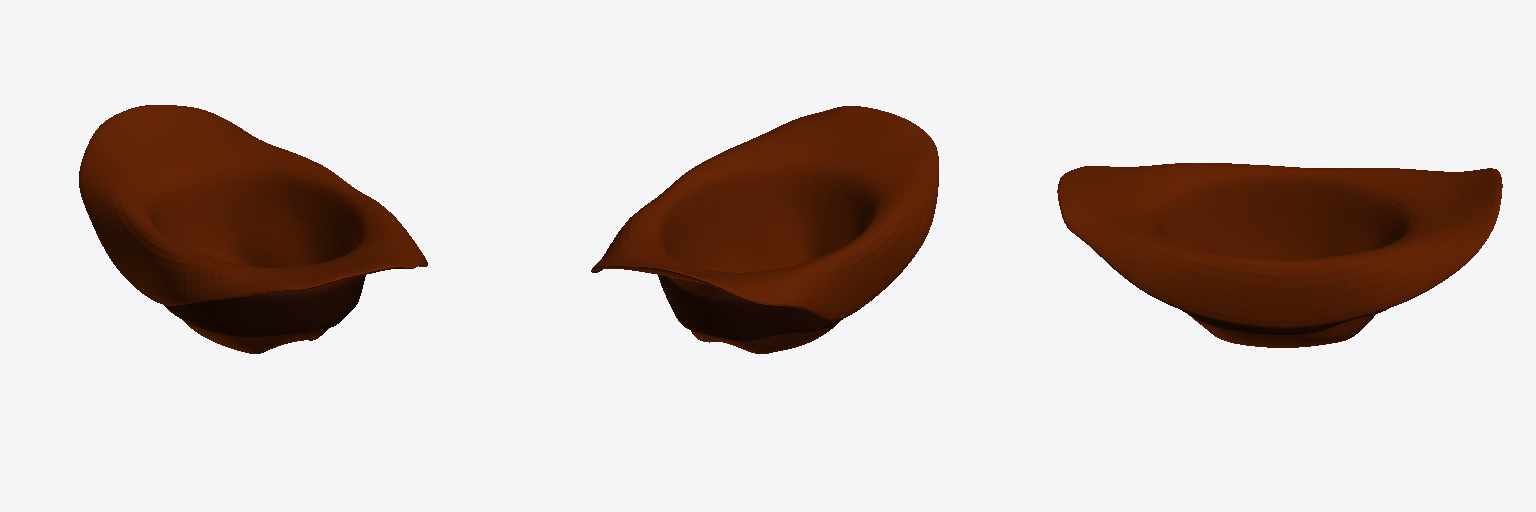
File: ww2-headwear.obj
3 views of the same model, side by side, from view 1: azimuth 30°, elevation 25°; view 2: azimuth 150°, elevation 25°; view 3: azimuth 270°, elevation 25° (orthographic).
Visible parts, largest first — view 1: main_chinditz, hatband_chinditz; view 2: main_chinditz, hatband_chinditz; view 3: main_chinditz, hatband_chinditz.
Part boxes in pixels (left/top/right/bottom): main_chinditz: left=79, top=105, right=427, bottom=353; hatband_chinditz: left=164, top=275, right=365, bottom=336; main_chinditz: left=591, top=106, right=938, bottom=353; hatband_chinditz: left=658, top=275, right=843, bottom=340; main_chinditz: left=1057, top=163, right=1502, bottom=347; hatband_chinditz: left=1182, top=308, right=1388, bottom=334.
Size of the model in its own units: 1.64 by 0.9594 by 2.77.